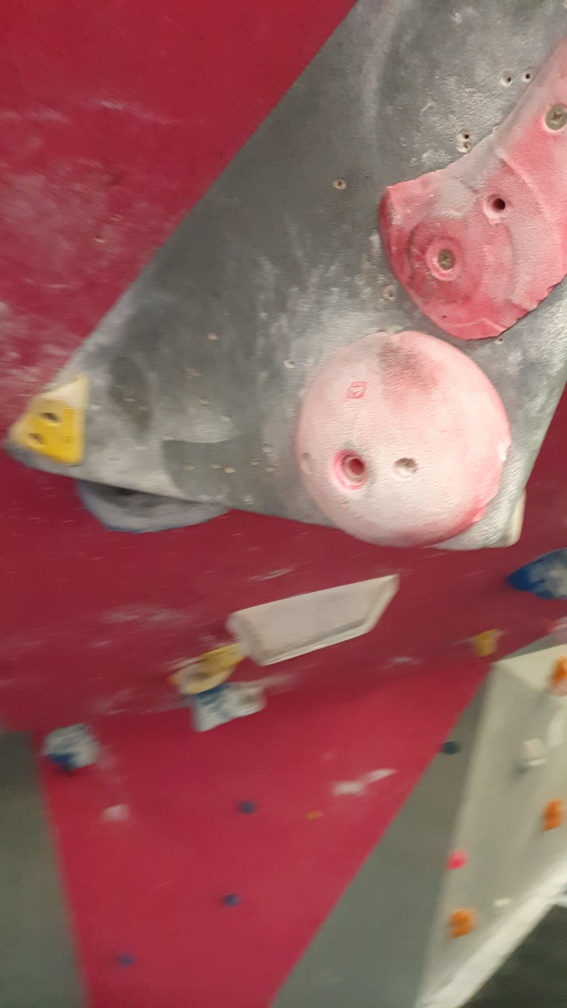Crimp: (375, 25, 567, 343)
Sloper: (291, 328, 510, 550)
